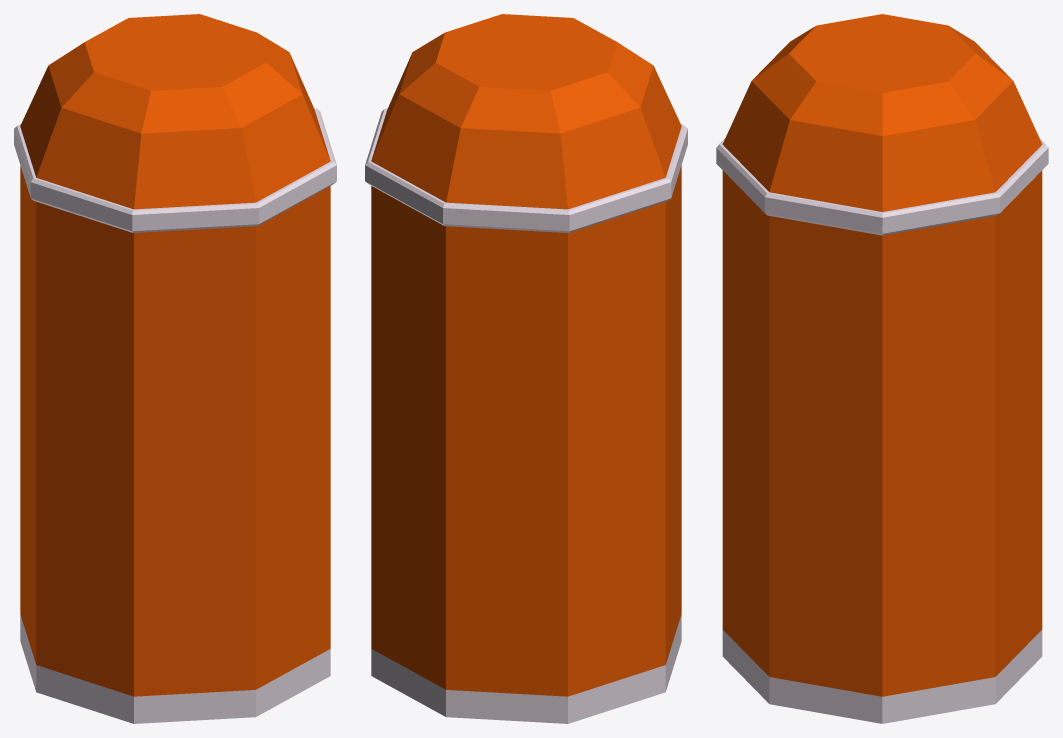
File: Elevator 2.fbx
3 renders of one model, left to right at view 1: azimuth 30°, elevation 25°; view 2: azimuth 150°, elevation 25°; view 3: azimuth 270°, elevation 25°, orthographic.
Visible parts, largest first — view 1: 001; view 2: 001; view 3: 001.
Part boxes in pixels (left/top/right/bottom): 001: left=14, top=14, right=336, bottom=723; 001: left=365, top=14, right=687, bottom=723; 001: left=716, top=14, right=1048, bottom=723.
Size of the model in its own units: 100000 by 200000 by 100000.
